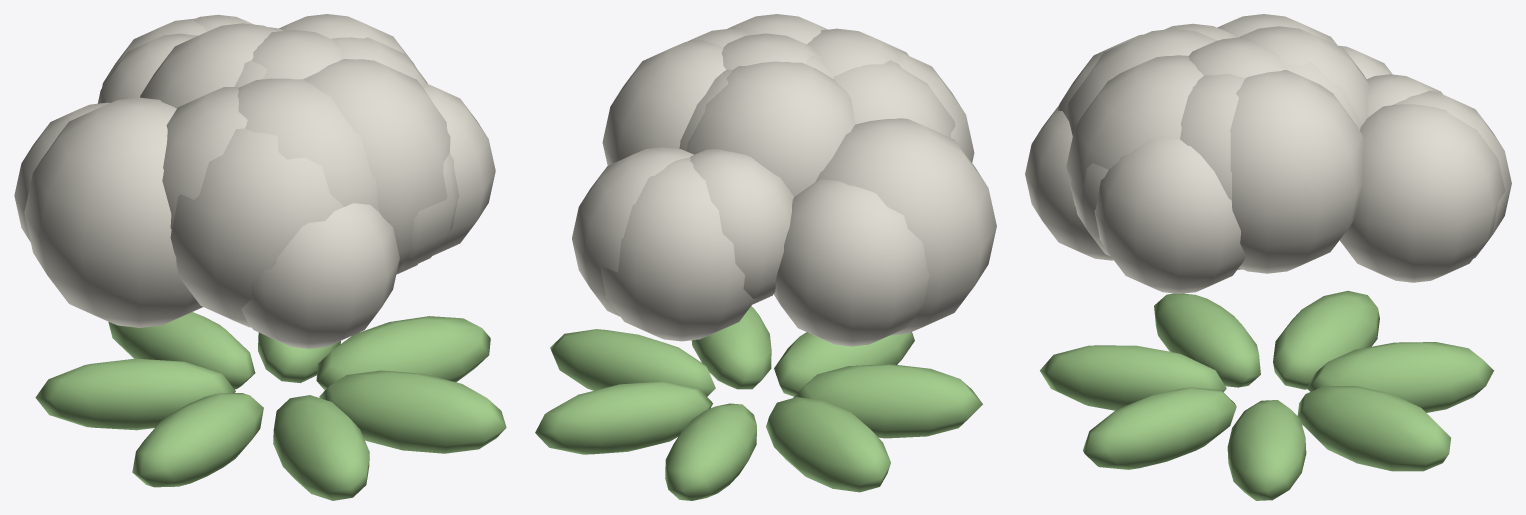
The model's file is Cauliflower.glb.
3 renders of one model, left to right at view 1: azimuth 30°, elevation 25°; view 2: azimuth 150°, elevation 25°; view 3: azimuth 270°, elevation 25°, orthographic. The views are drawn at different scales.
Visible parts, largest first — view 1: Cauliflower; view 2: Cauliflower; view 3: Cauliflower.
Part boxes in pixels (box(x1,y1,x2,y2)): Cauliflower: box(14, 14, 506, 500); Cauliflower: box(535, 14, 996, 500); Cauliflower: box(1025, 14, 1511, 500).
Size of the model in its own units: 0.8726 by 0.7258 by 0.8523.
